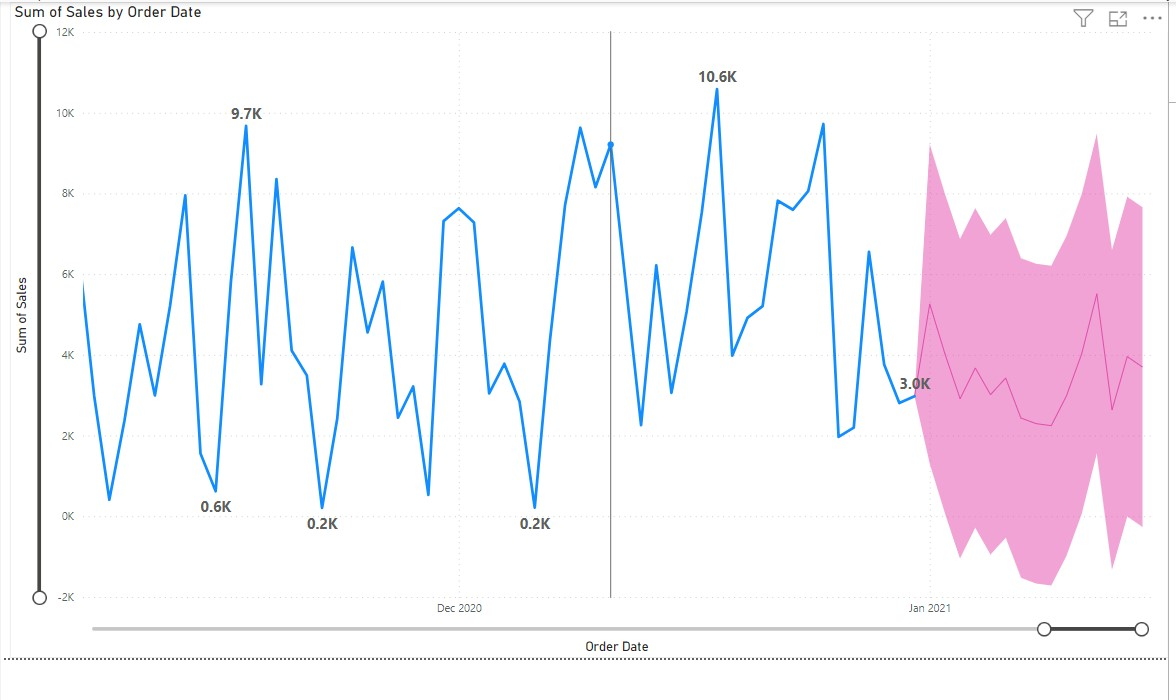

This screenshot's page, from the dashboard's own definition file:
{"tool":"powerbi","page":{"name":"sales forecast for next 15 days ","canvas":[1280,720],"ordinal":1},"visuals":[{"type":"lineChart","fields":{"Y":["Sum(SuperStore_Sales_Dataset.Sales)"],"Category":["SuperStore_Sales_Dataset.Order Date"]},"box":[9.6,0,1271,719.8],"z":0}]}

Visuals, with their boxes in screenshot pixels (x1, y1, x2, y2):
lineChart - Sum(SuperStore_Sales_Dataset.Sales) x SuperStore_Sales_Dataset.Order Date: bbox=[36, 3, 1175, 655]
